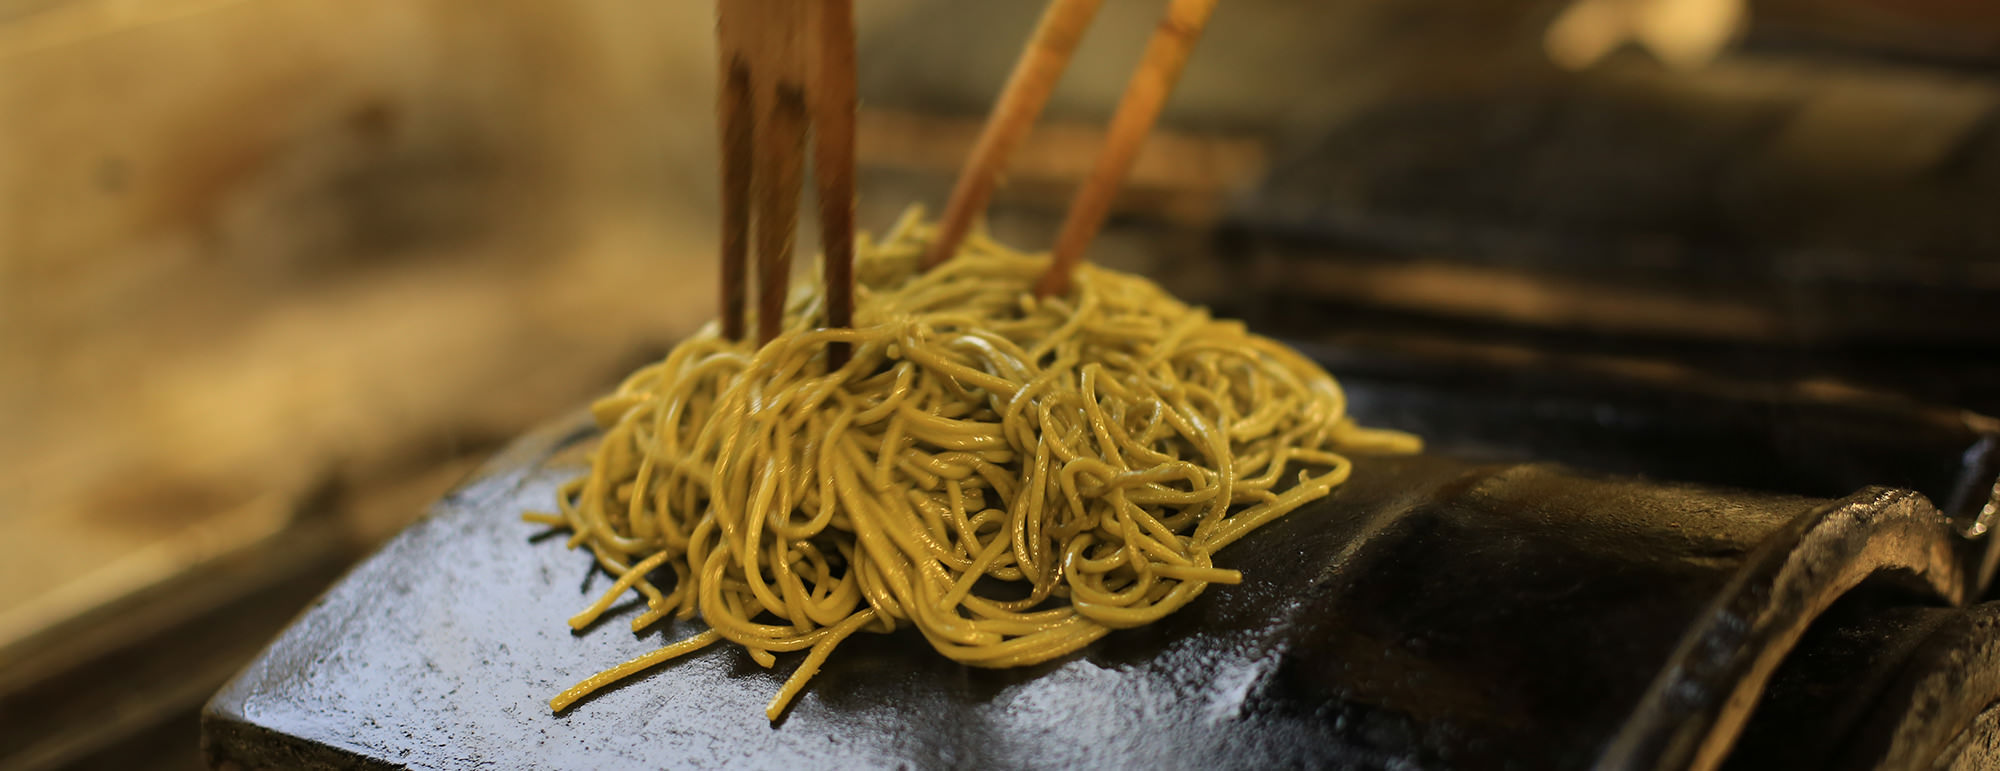Soba: (582, 208, 1388, 701)
